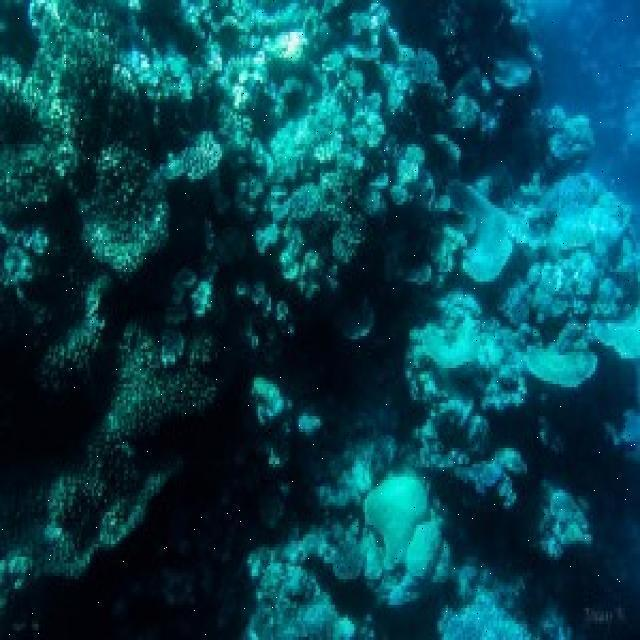Bleached: (460, 206, 640, 426), (222, 1, 378, 207), (343, 478, 446, 575), (250, 554, 355, 640), (120, 40, 191, 98), (450, 597, 520, 640)
Healthy: (2, 253, 242, 640), (432, 1, 553, 153)
